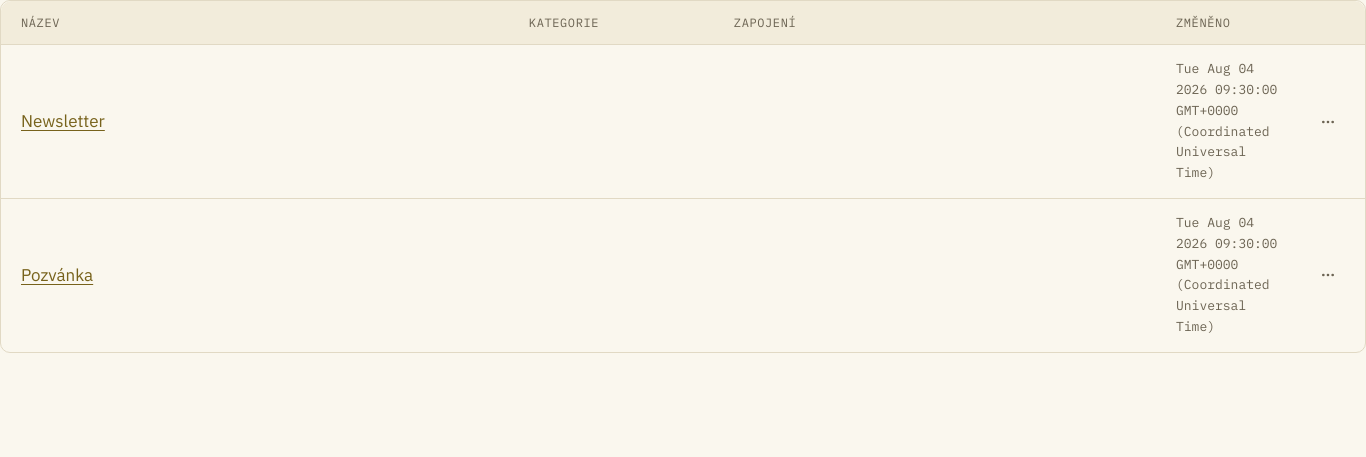
knihovna šablon › nabídne mazání u každé šablony, ne jen u první
The width and height of the screenshot is (1366, 457).
Click the button named "Další akce se šablonou" at (1328, 275), box [1311,258,1345,292]
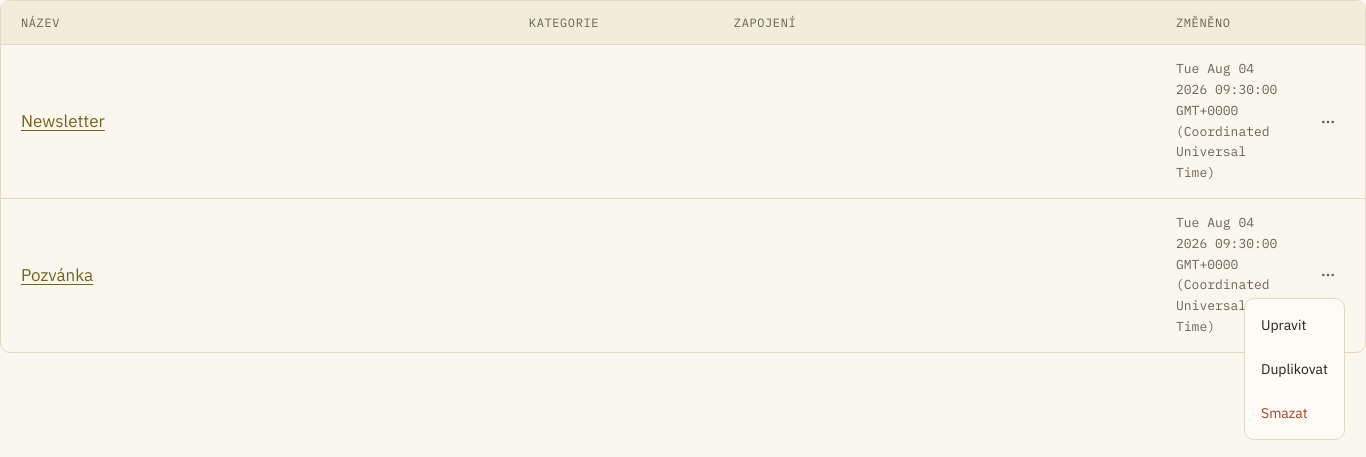
Expected: the menu item "Smazat" is shown, [1261,404,1308,422]
